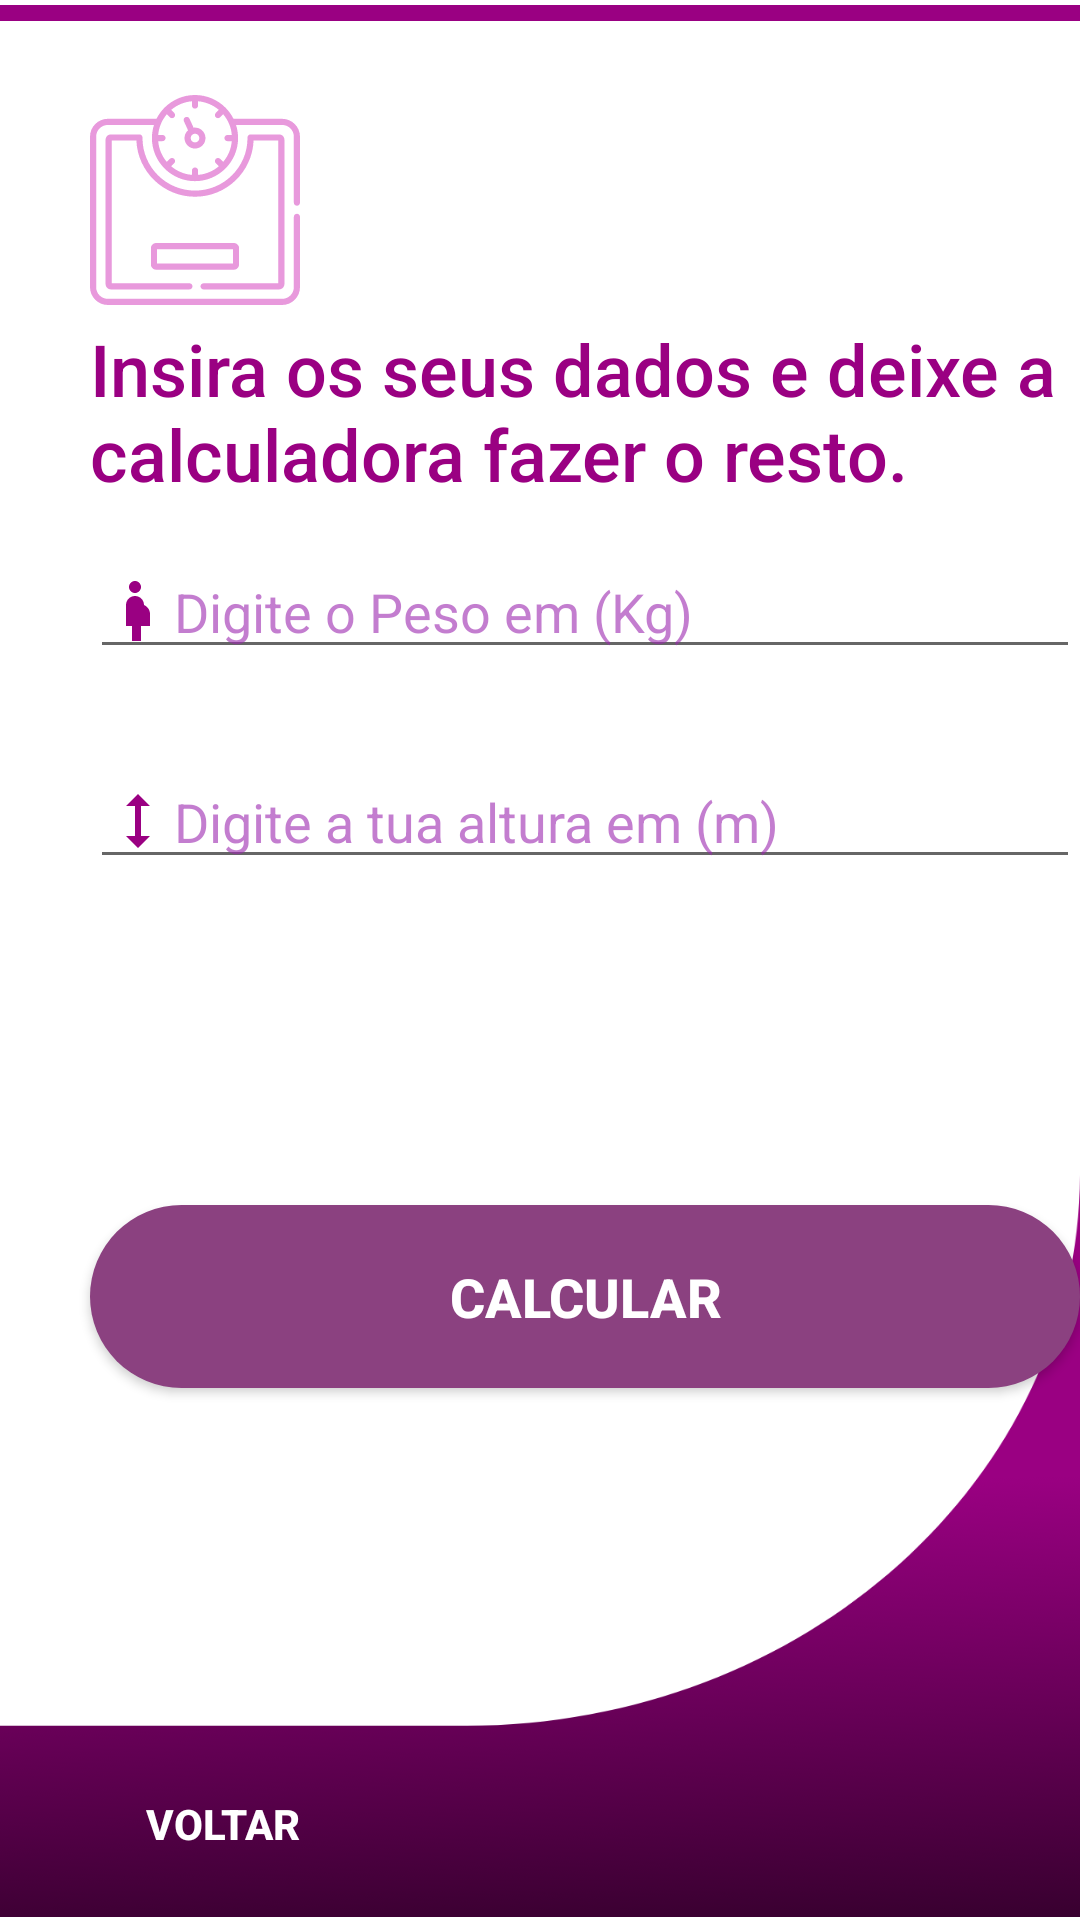

Locate icon controls on the screen. Image size 1080w x 1920h, boxes as region(x1, y1, x2, y2).
line for Balance img: region(90, 95, 300, 305)
